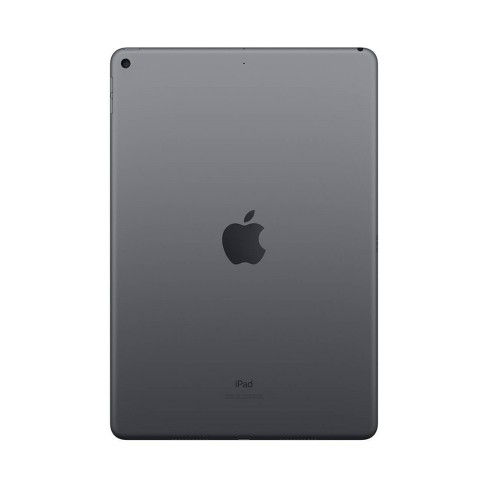apple: (202, 176, 292, 280)
